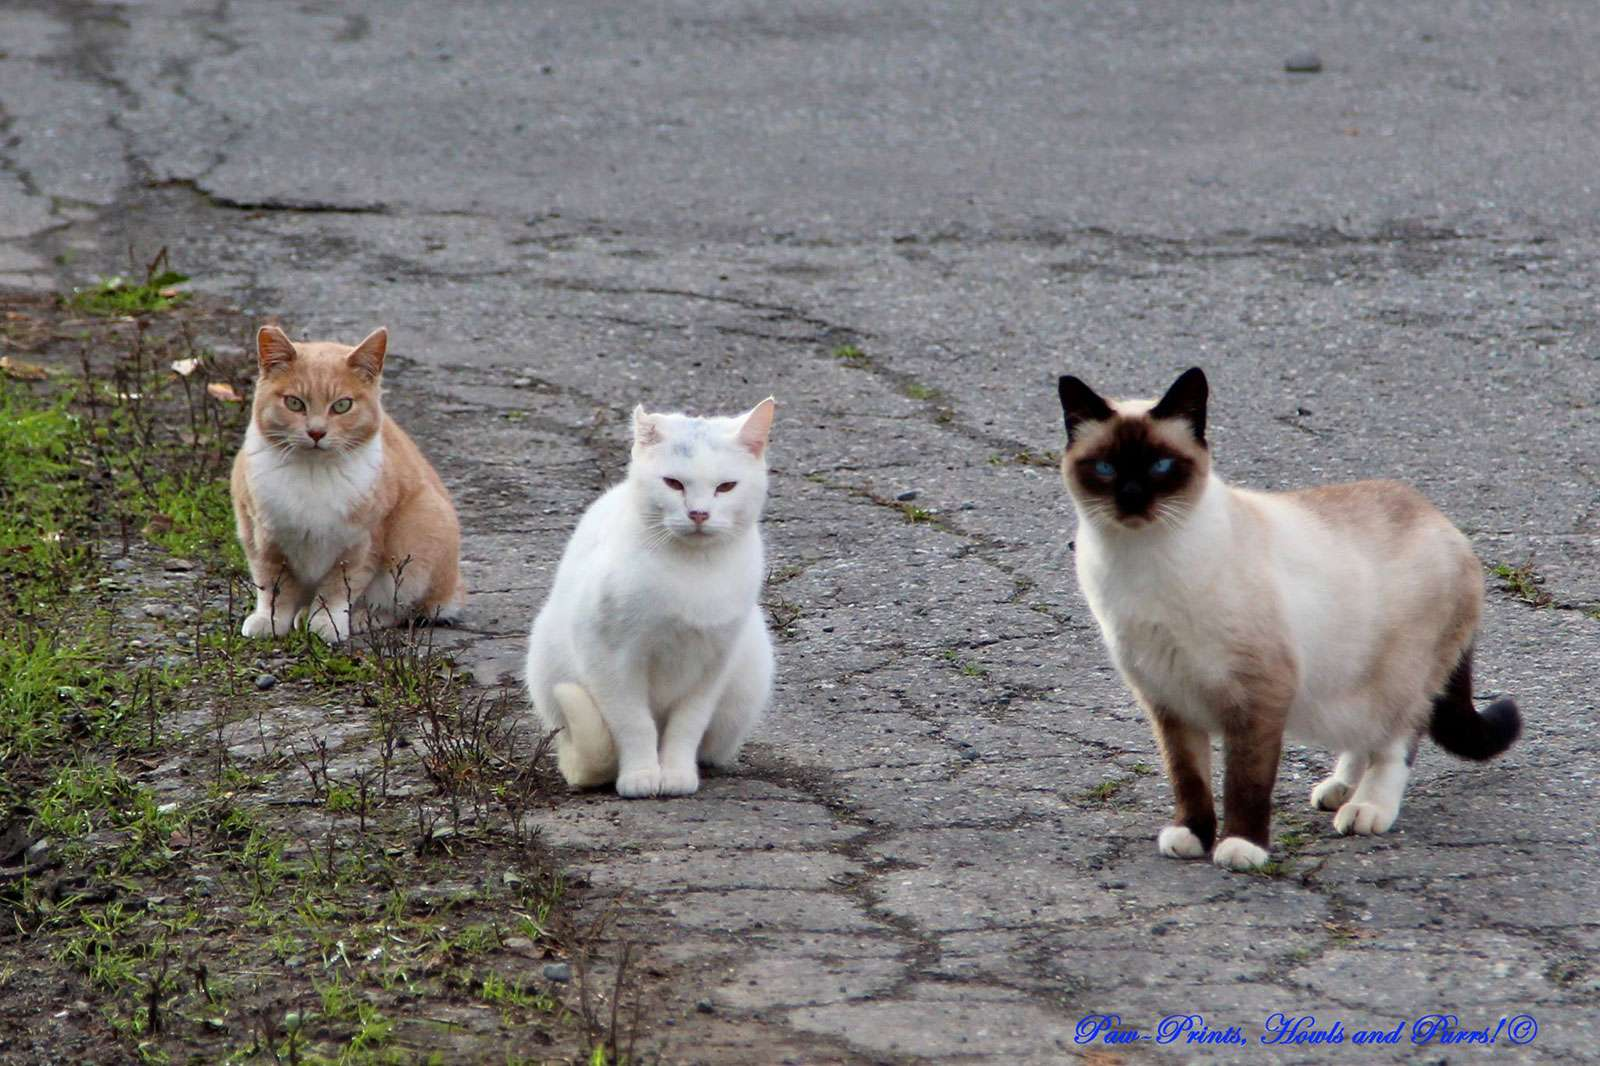Cat: (1014, 331, 1551, 884), (508, 362, 812, 844), (197, 314, 475, 667)
